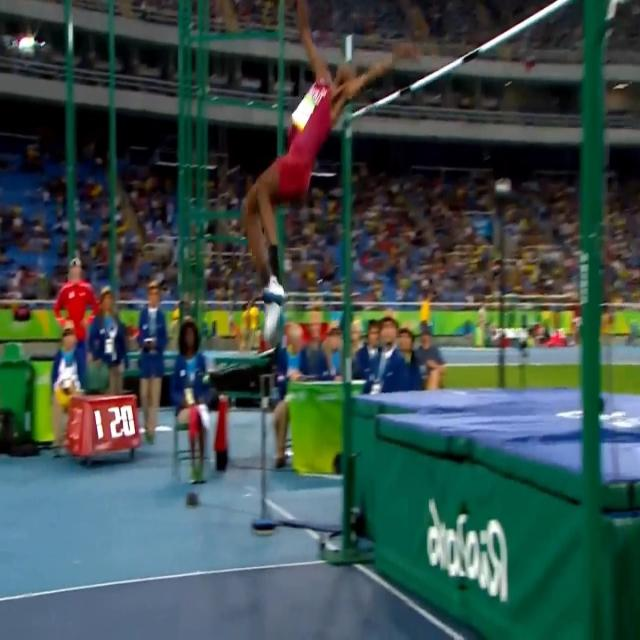jump: (241, 0, 423, 345)
